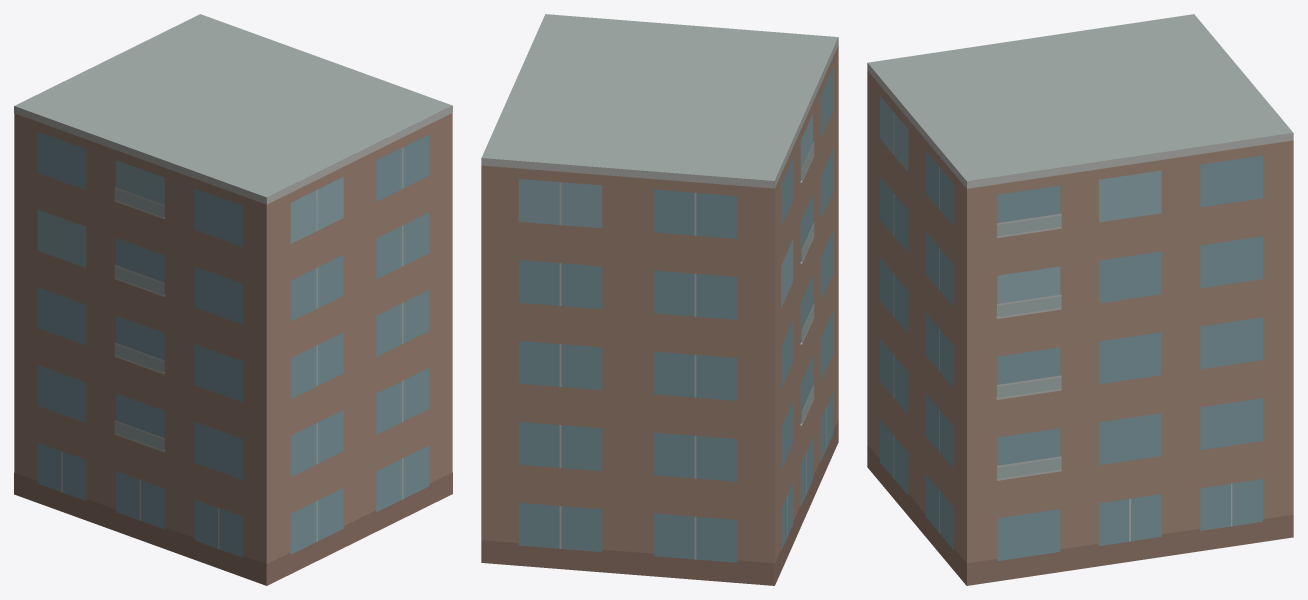
File: survey-upis-32717000.glb
3 renders of one model, left to right at view 1: azimuth 30°, elevation 25°; view 2: azimuth 150°, elevation 25°; view 3: azimuth 270°, elevation 25°, orthographic. The views are drawn at different scales.
Visible parts, largest first — view 1: survey-upis-32717000.tmp; view 2: survey-upis-32717000.tmp; view 3: survey-upis-32717000.tmp.
Boxes of the visible parts, x1=… form: survey-upis-32717000.tmp: x1=14, y1=14, x2=452, y2=585; survey-upis-32717000.tmp: x1=481, y1=14, x2=838, y2=585; survey-upis-32717000.tmp: x1=867, y1=14, x2=1293, y2=585.
Bounding box in the file's own units: 11.63 × 13.1 × 12.52.
